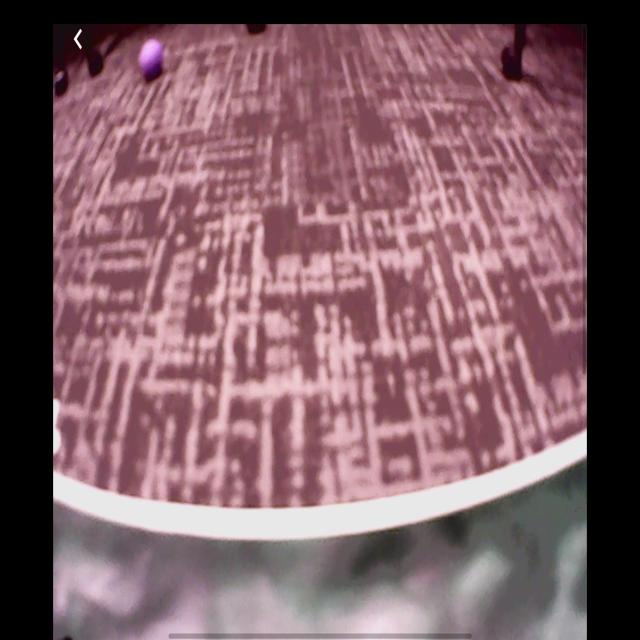ball: (139, 40, 165, 81)
